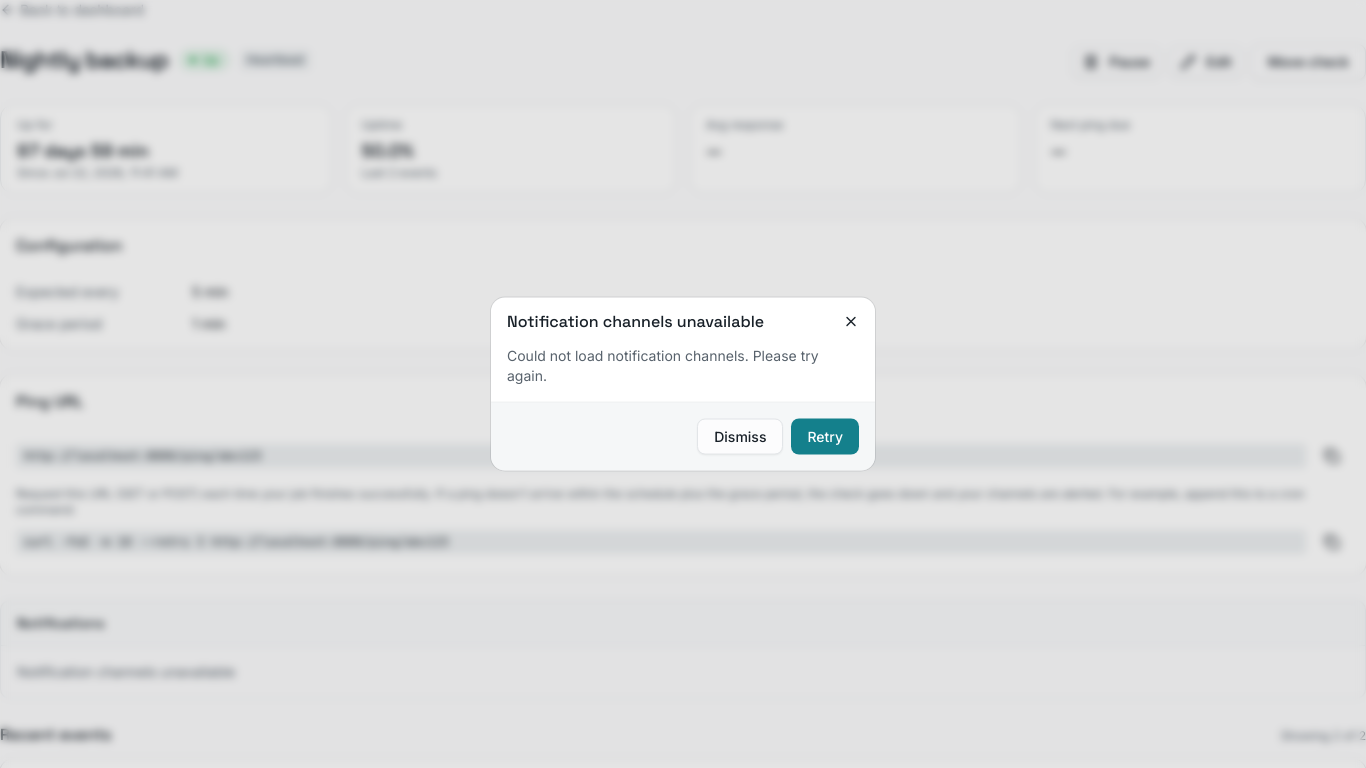
Test: CheckDetail › surfaces channel loading failures and retries for the same organization
This screenshot has width=1366, height=768.
Expected: the dialog "Notification channels unavailable" shows "Could not load notification channels. Please try again.", [507,346,819,384]
Expected: the message "Notification channels unavailable" is shown, [0,600,1365,699]
Click the button with aria-label "Retry notification channels" at x=825, y=436, box [791,418,859,454]
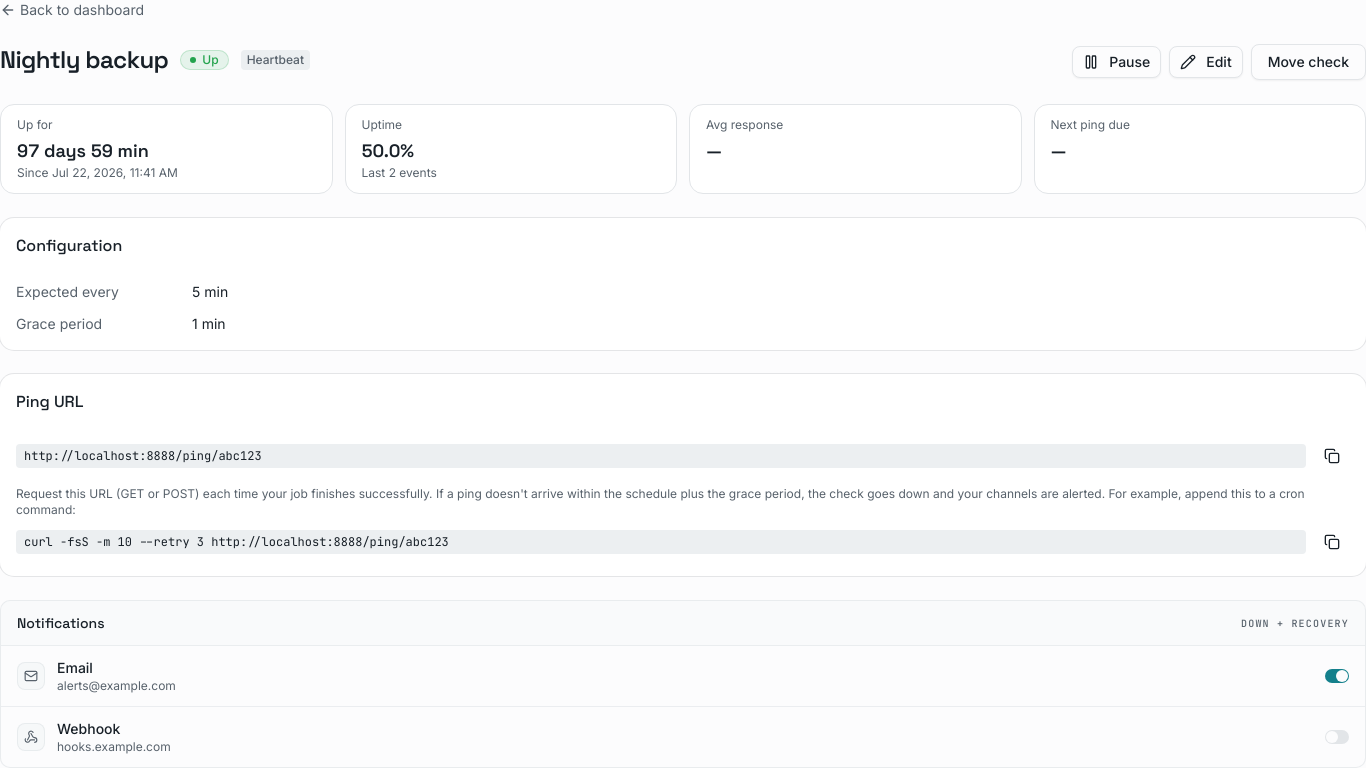
Now the switch named "Nightly backup — Email notifications" is checked, box [1325,669,1349,683]
Now the text "Notification channels unavailable" is gone
